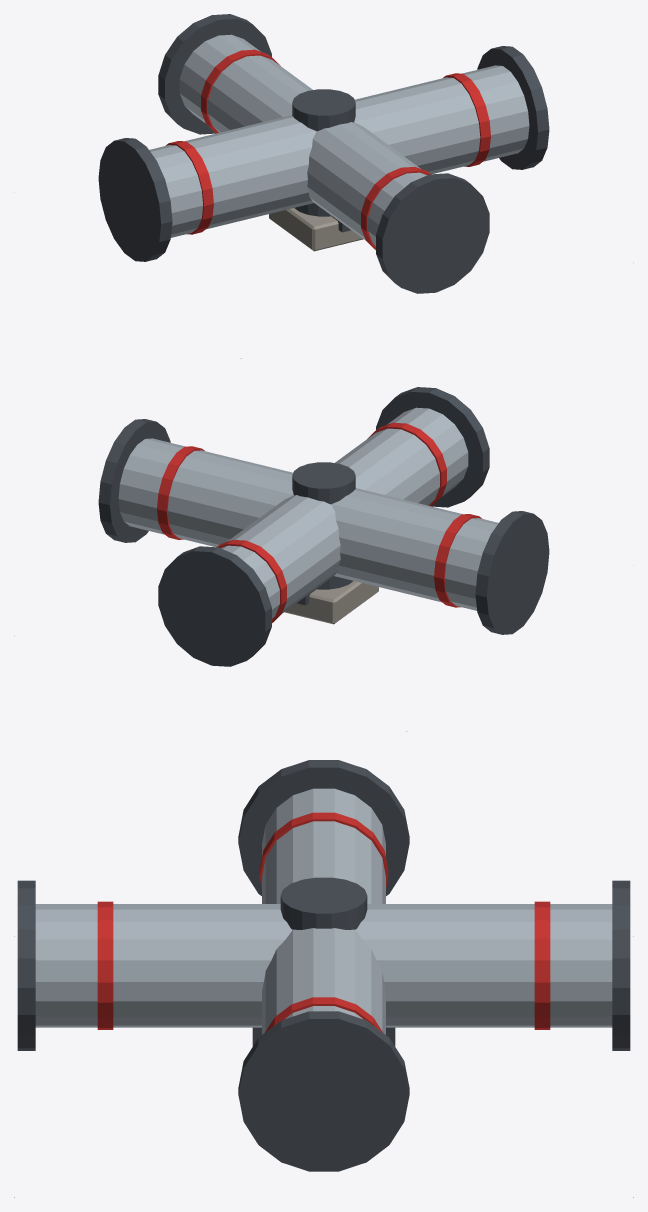
File: tuyau_croix_t3.glb
3 views of the same model, one above another, from view 1: azimuth 30°, elevation 25°; view 2: azimuth 150°, elevation 25°; view 3: azimuth 270°, elevation 25° (orthographic). The views are drawn at different scales.
Parts seen in each view (by area): view 1: pieces_inox.014, pieces_acier_sombre.044, pieces_rive_t3.014, pieces_beton.044; view 2: pieces_inox.014, pieces_acier_sombre.044, pieces_rive_t3.014, pieces_beton.044; view 3: pieces_inox.014, pieces_acier_sombre.044, pieces_rive_t3.014.
Boxes of the visible parts, bbox=[...] form: pieces_inox.014: bbox=[149, 34, 529, 245]; pieces_acier_sombre.044: bbox=[98, 14, 549, 293]; pieces_rive_t3.014: bbox=[166, 49, 490, 249]; pieces_beton.044: bbox=[269, 208, 363, 251]; pieces_inox.014: bbox=[118, 407, 498, 618]; pieces_acier_sombre.044: bbox=[98, 387, 549, 666]; pieces_rive_t3.014: bbox=[157, 422, 481, 622]; pieces_beton.044: bbox=[284, 581, 378, 624]; pieces_inox.014: bbox=[35, 788, 612, 1034]; pieces_acier_sombre.044: bbox=[17, 760, 630, 1171]; pieces_rive_t3.014: bbox=[97, 812, 550, 1032].
Bounding box in the file's own units: 1 × 0.318 × 1.
